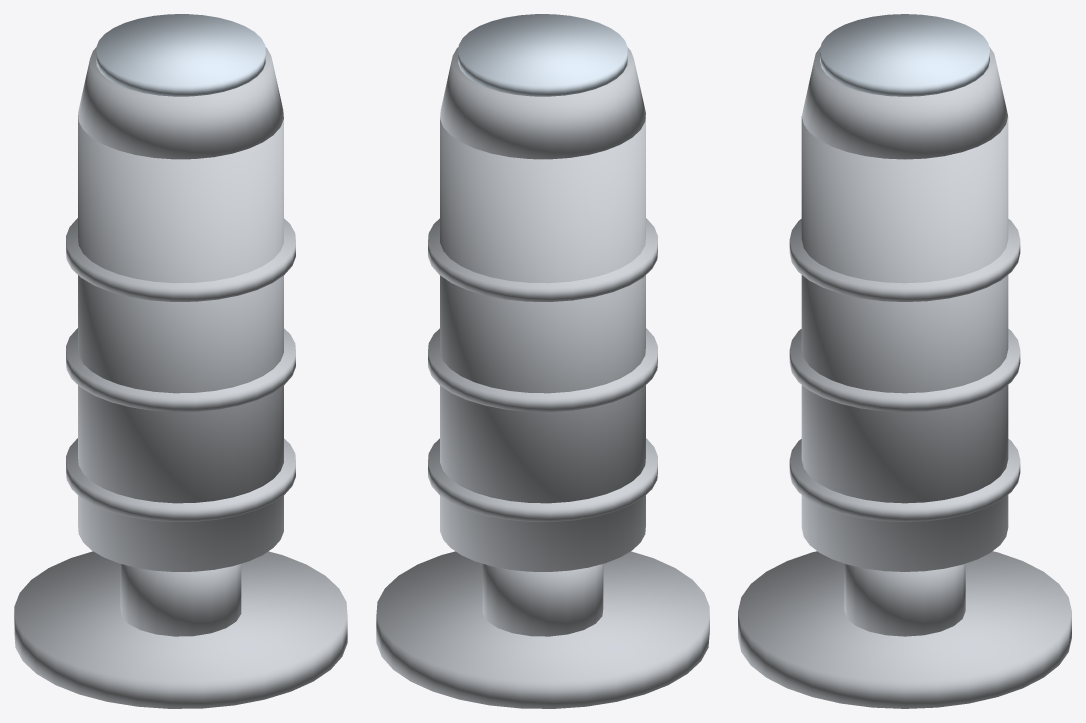
Rendered from light-spot.glb.
3 renders of one model, left to right at view 1: azimuth 30°, elevation 25°; view 2: azimuth 150°, elevation 25°; view 3: azimuth 270°, elevation 25°, orthographic.
Visible parts, largest first — view 1: Прожектор узкий; view 2: Прожектор узкий; view 3: Прожектор узкий.
Part boxes in pixels (<box>): Прожектор узкий: <box>14,14,347,708</box>; Прожектор узкий: <box>376,14,709,708</box>; Прожектор узкий: <box>738,14,1071,708</box>.
Bounding box in the file's own units: 0.11 × 0.214 × 0.11.
